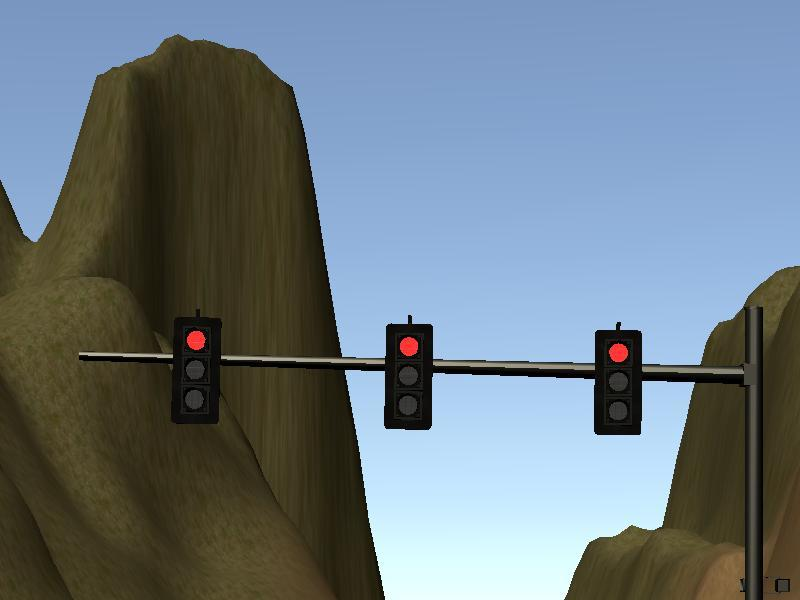Red: (383, 322, 432, 430), (171, 317, 220, 423), (593, 329, 641, 433)
